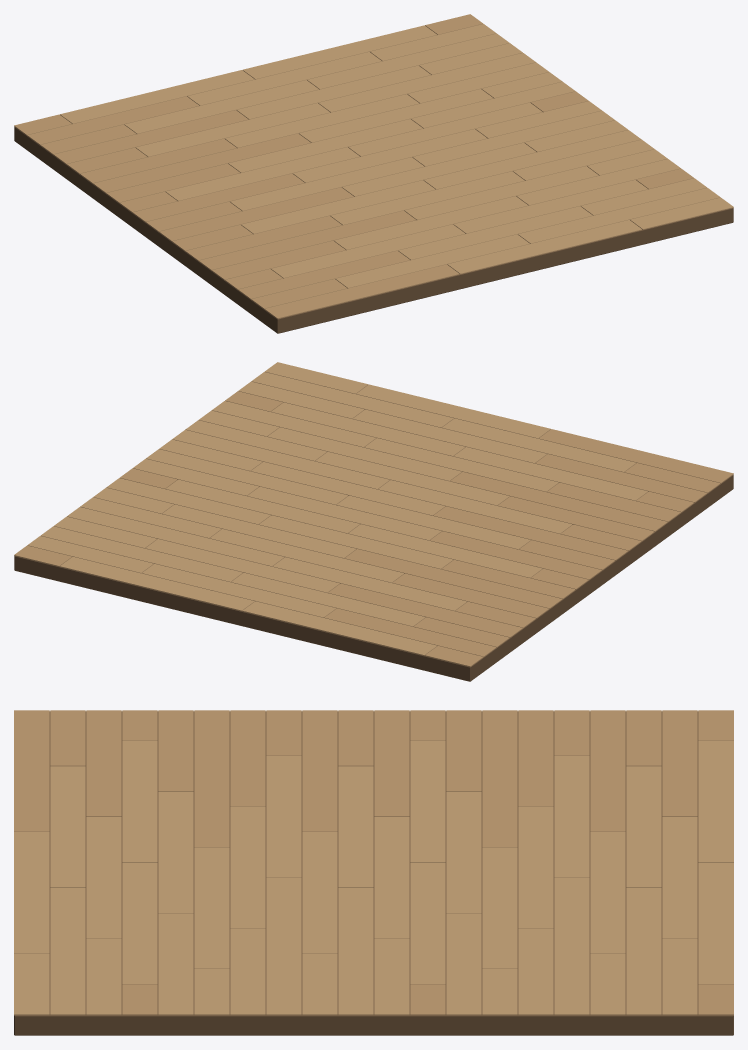
File: FloorTile.fbx
3 renders of one model, top to bottom at view 1: azimuth 30°, elevation 25°; view 2: azimuth 150°, elevation 25°; view 3: azimuth 270°, elevation 25°, orthographic. The views are drawn at different scales.
Parts seen in each view (by area): view 1: FloorTile_Mesh; view 2: FloorTile_Mesh; view 3: FloorTile_Mesh.
Boxes of the visible parts, x1,y1,x2,y2 form: FloorTile_Mesh: (14,14,733,333); FloorTile_Mesh: (14,362,733,681); FloorTile_Mesh: (14,710,733,1035).
Size of the model in its own units: 3 by 0.1 by 3.
